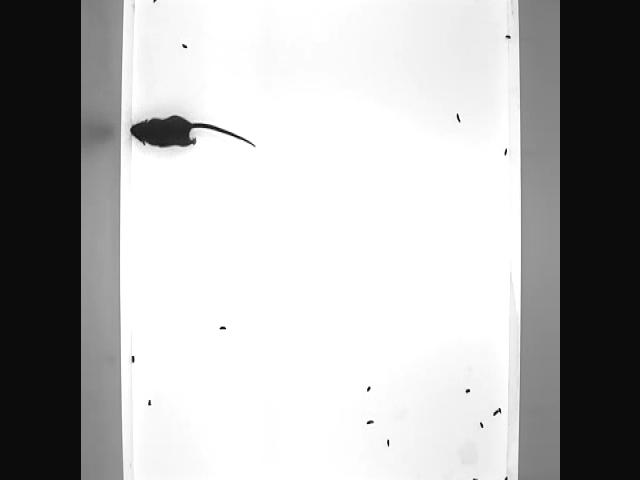Tikus: (128, 113, 256, 151)
